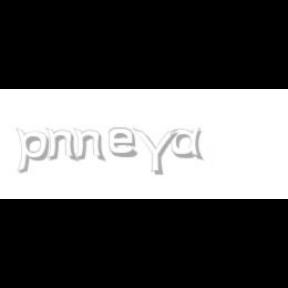Y: (132, 128, 178, 176)
a: (170, 128, 208, 160)
e: (108, 128, 142, 158)
n: (45, 128, 79, 162), (73, 128, 107, 162)
p: (16, 128, 52, 174)
